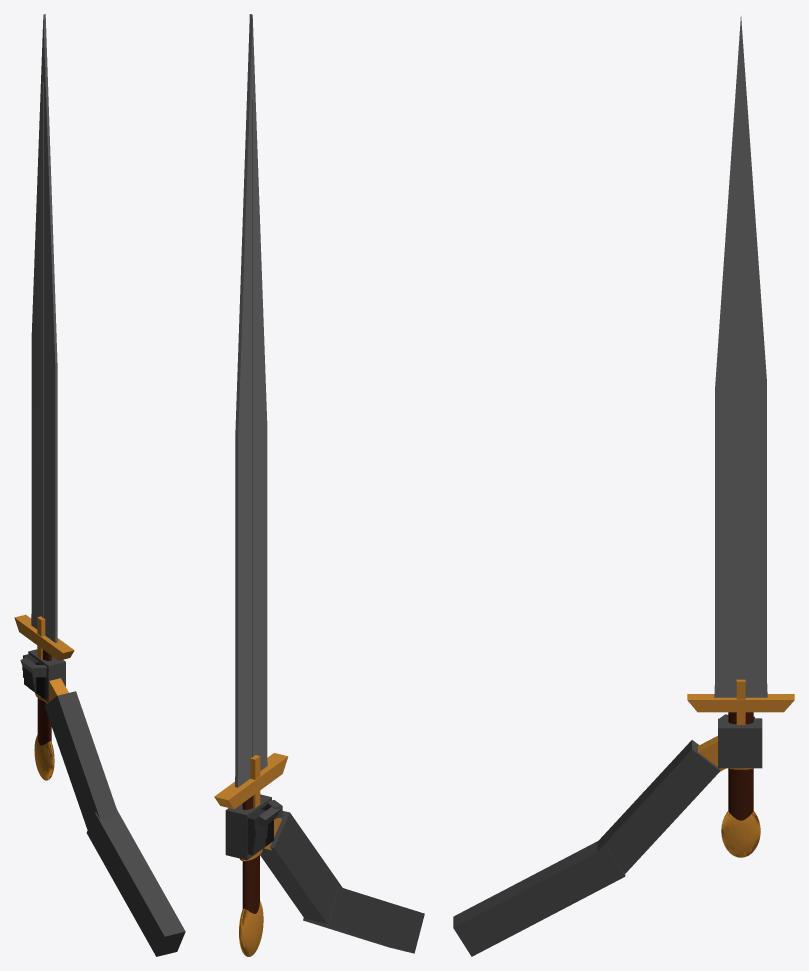
Rendered from templarArmWlongsword.obj.
3 renders of one model, left to right at view 1: azimuth 30°, elevation 25°; view 2: azimuth 150°, elevation 25°; view 3: azimuth 270°, elevation 25°, orthographic. The views are drawn at different scales.
Visible parts, largest first — view 1: Cube.002; view 2: Cube.002; view 3: Cube.002.
Part boxes in pixels (x1,y1,x2,y2): Cube.002: (14, 14, 185, 956); Cube.002: (214, 14, 424, 956); Cube.002: (453, 16, 794, 956).
Bounding box in the file's own units: 1.26 × 34.9 × 11.53.
